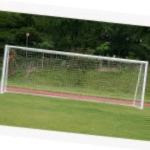goals: (1, 44, 149, 111)
